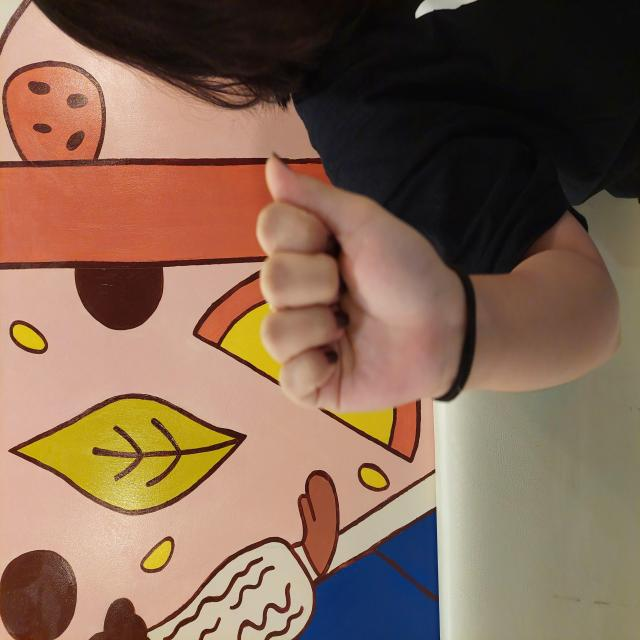A: (224, 254, 494, 445)
